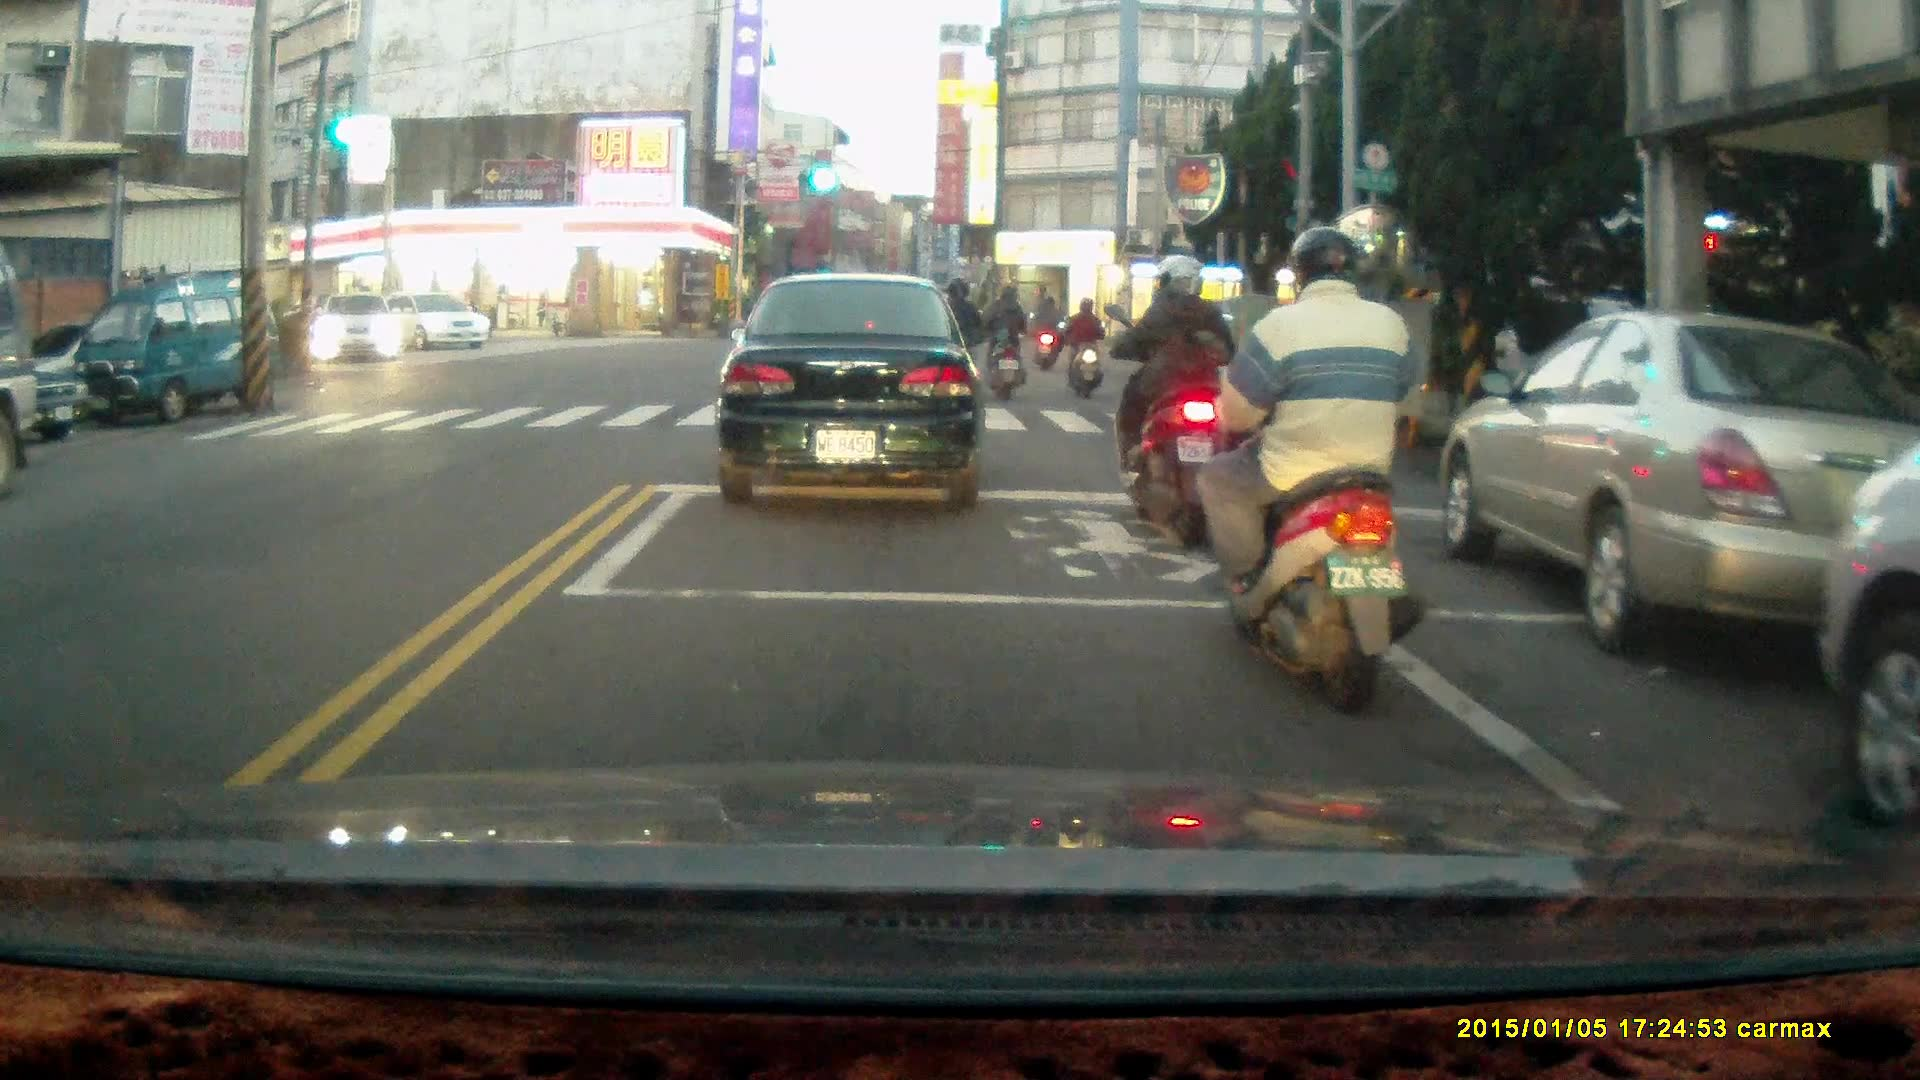rider: (1198, 224, 1429, 716), (1098, 254, 1236, 547), (926, 277, 983, 402), (984, 282, 1028, 404), (1063, 296, 1106, 400), (1033, 294, 1065, 369)
vehicle: (1435, 307, 1915, 661), (711, 272, 985, 511), (1823, 450, 1920, 821), (56, 263, 243, 425), (1, 234, 49, 491), (310, 295, 407, 369), (383, 288, 485, 356)
